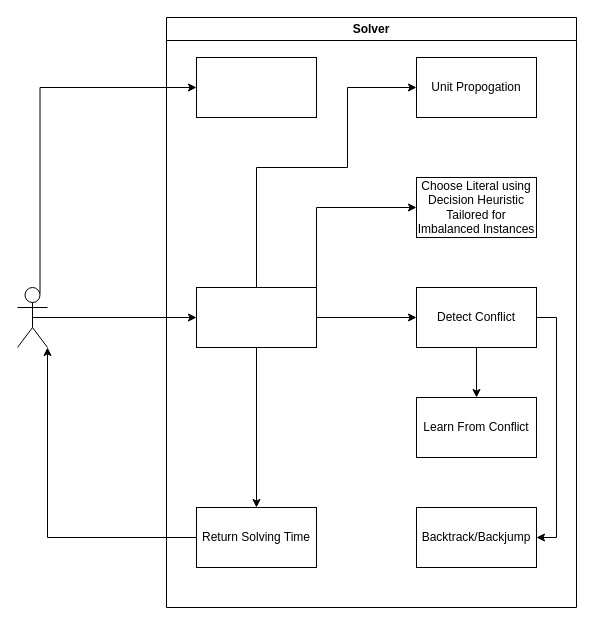
Some shapes in this 594 by 625 pixel diagram are drawn without their labels. Here are the shapes that lost their labels. From the top down, the centre of each, then its label:
(256,87): Read CNF
(32,317): User
(256,317): Check SAT/UNSAT
